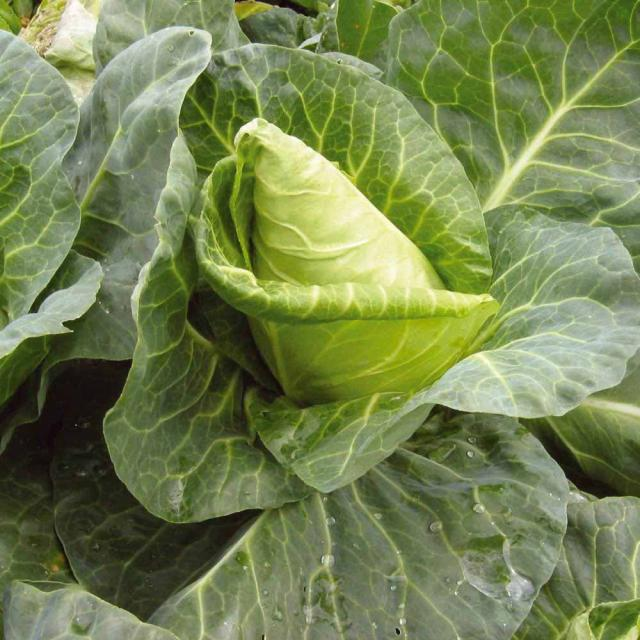cabbage: (101, 35, 523, 487)
